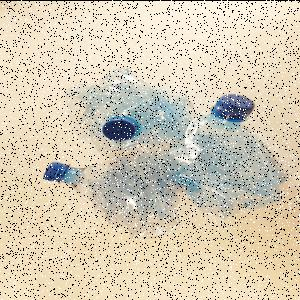Plastic-bottle: (163, 93, 283, 223), (63, 66, 197, 155), (43, 157, 183, 241)
